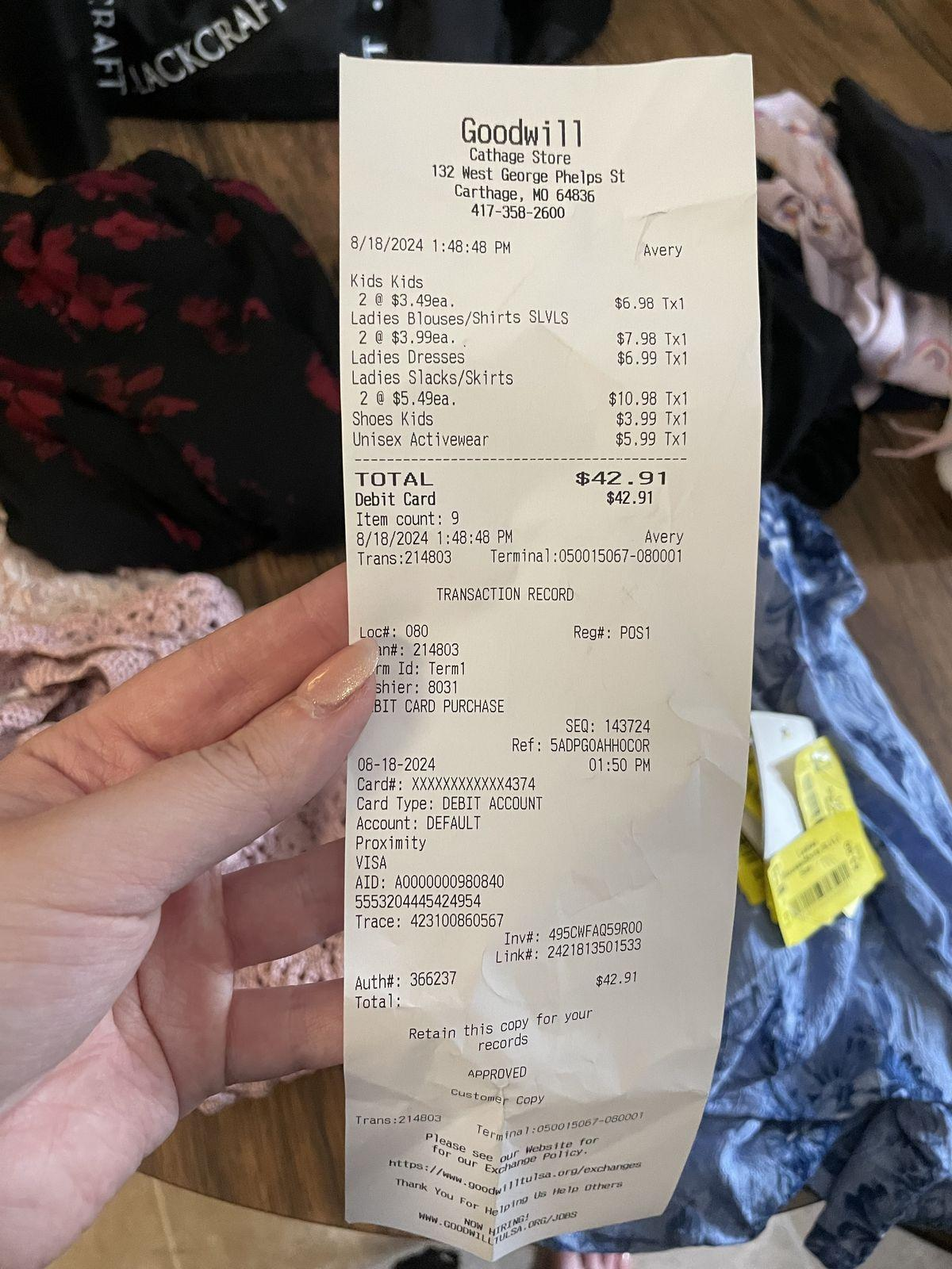receipt-in-hand: (341, 57, 760, 1257)
